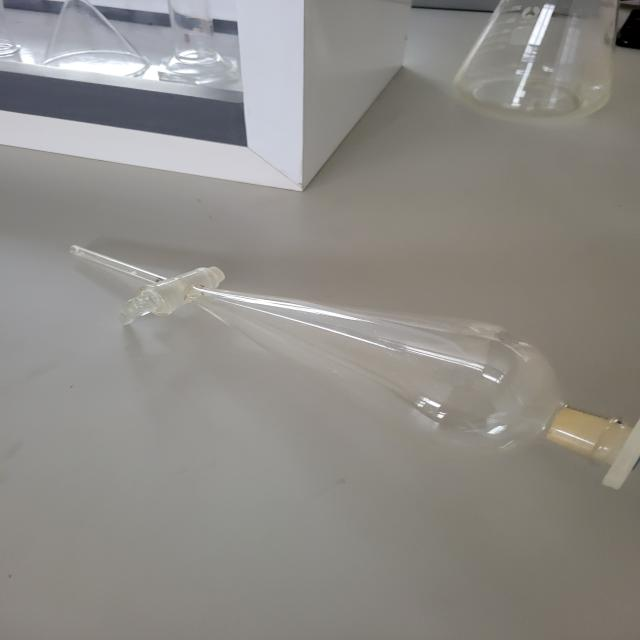Separating_Funnel: (34, 191, 640, 522)
